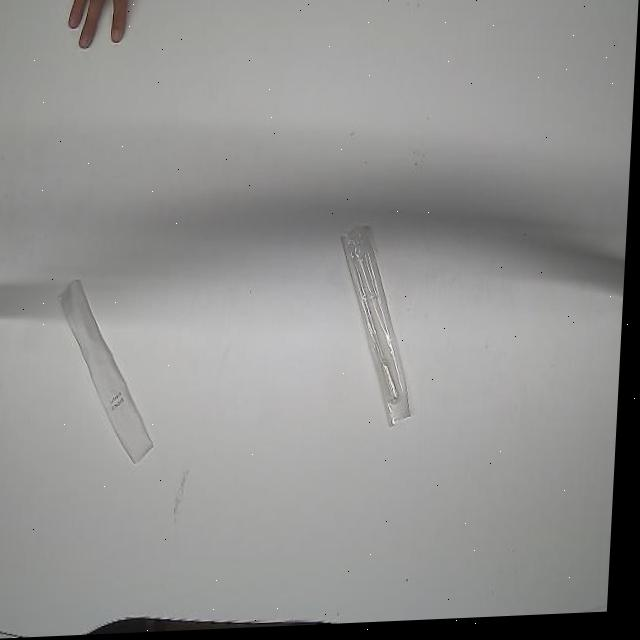Disposable Pasteur Pipette - Sealed: (55, 270, 169, 474), (333, 224, 428, 433)
